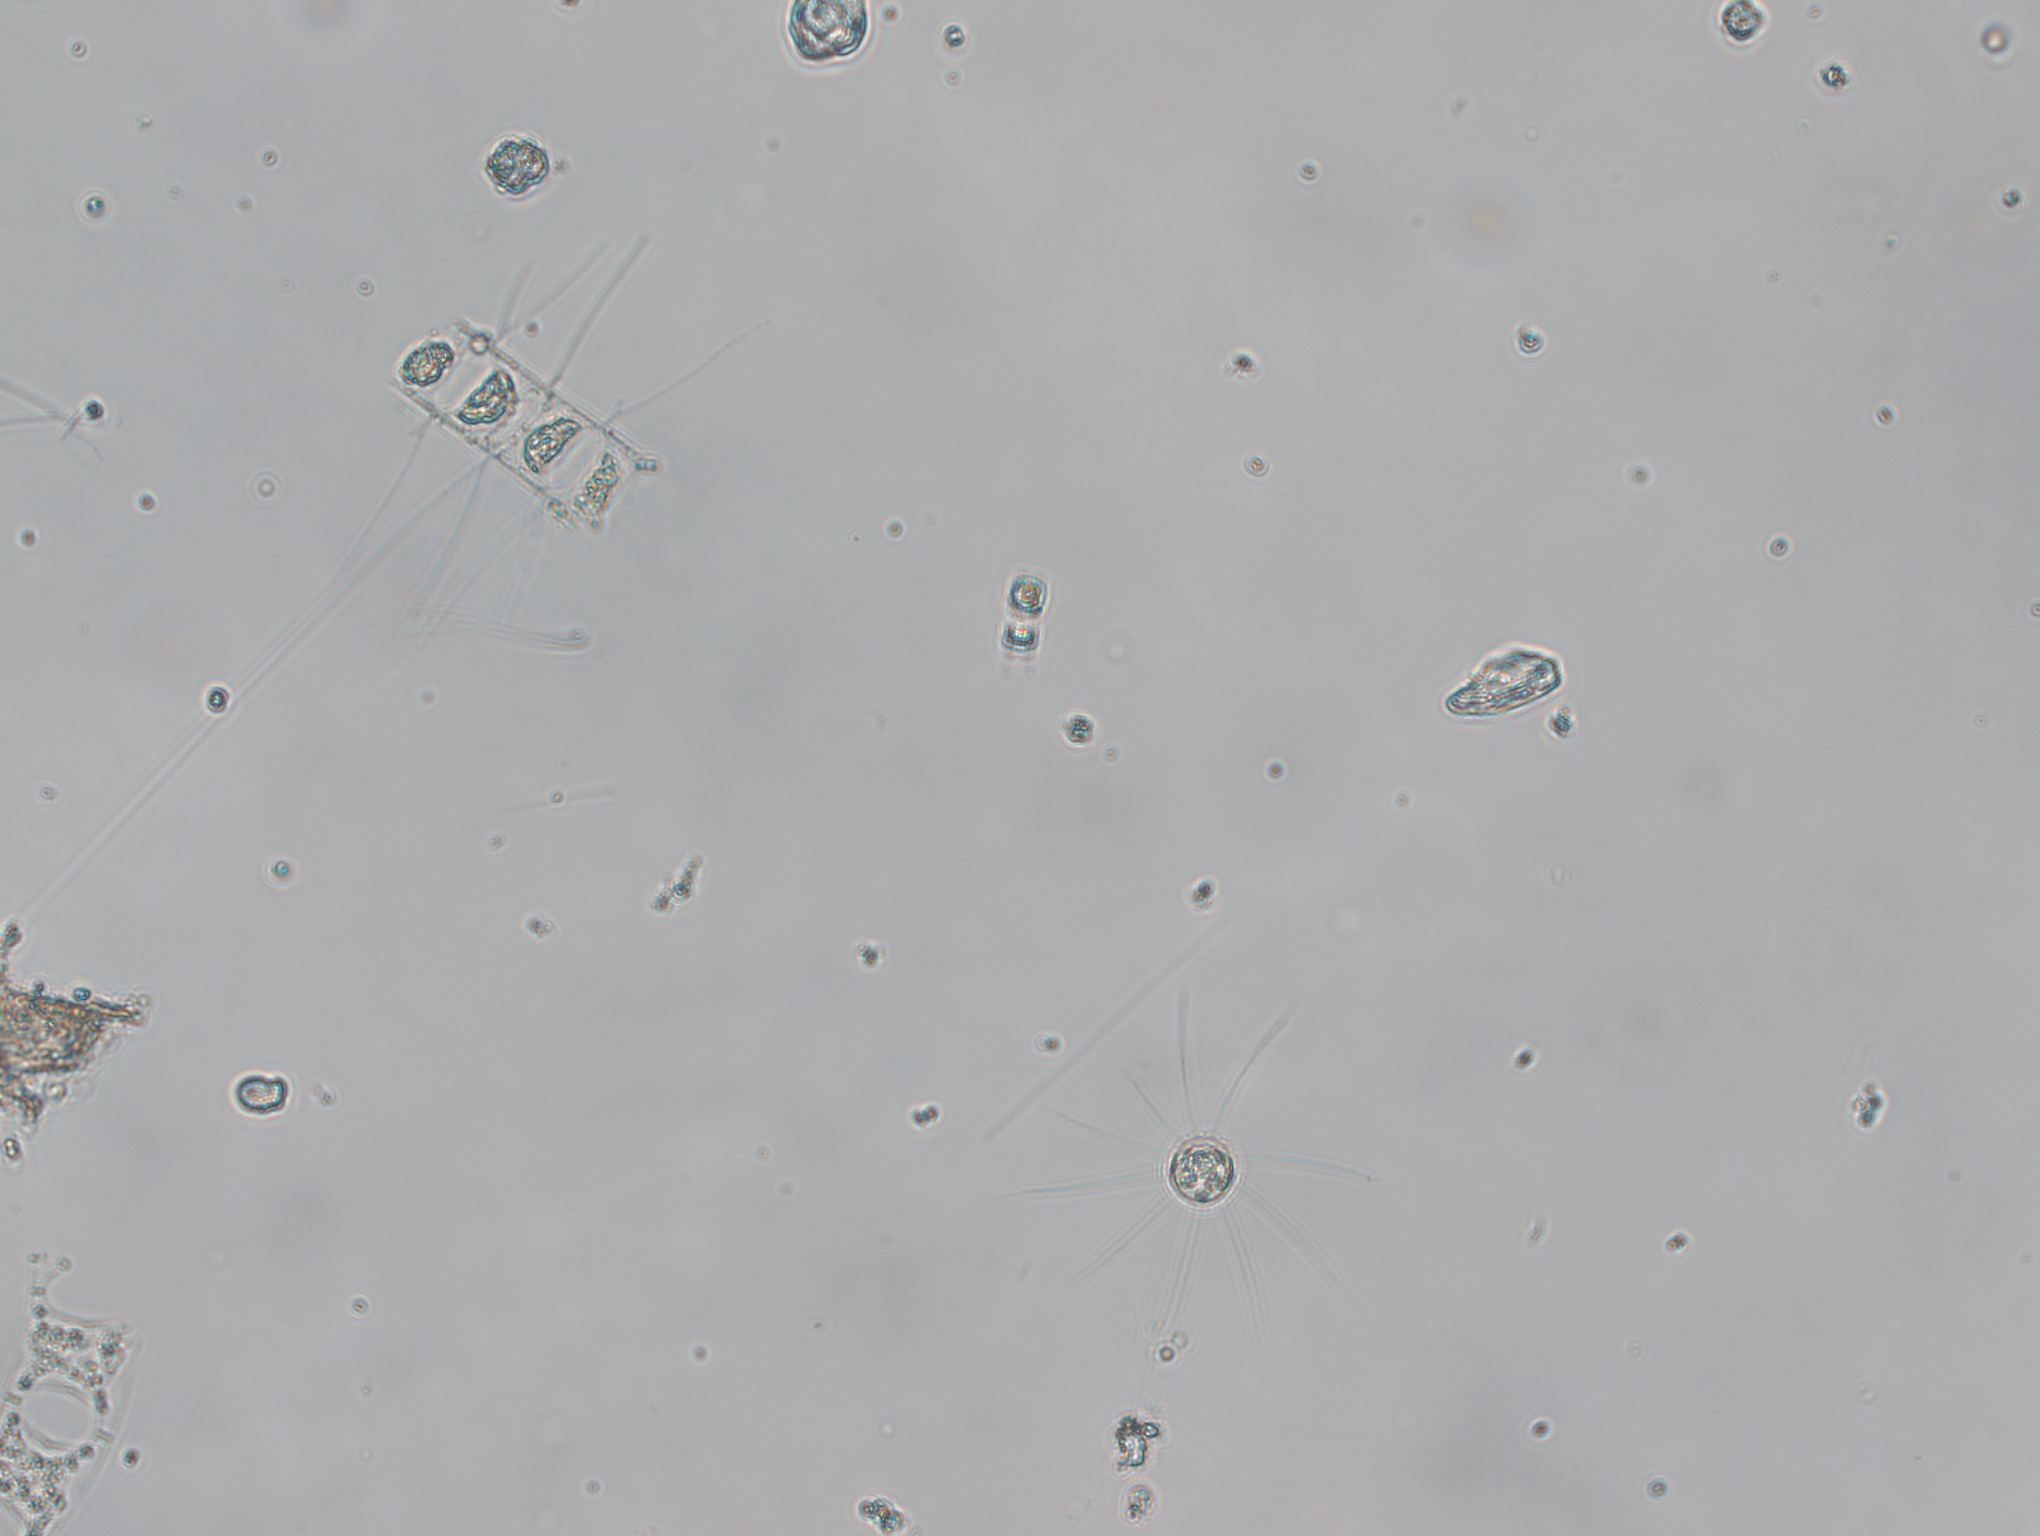bacteriastrum: (1013, 984, 1395, 1355)
chaetoceros: (305, 226, 760, 626)
eucampia: (2, 1254, 144, 1534)
